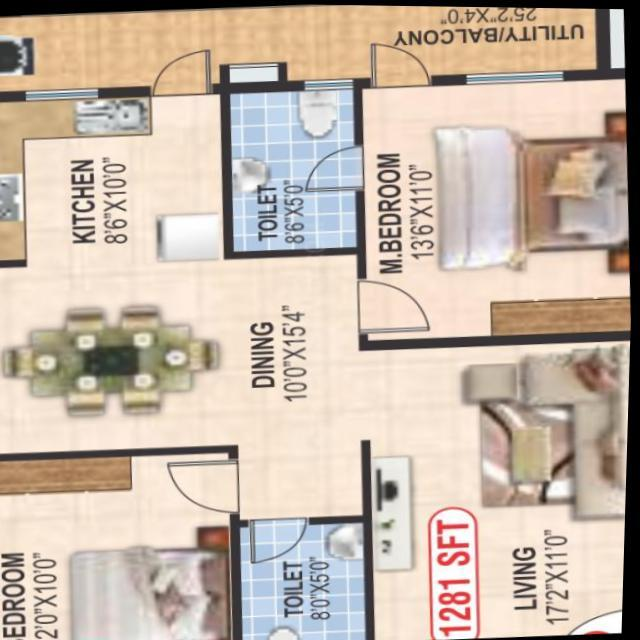Bedroom: (0, 445, 245, 640)
Bedroom with Toilet: (227, 69, 633, 343)
Dining: (0, 295, 227, 425)
Enterance-Foyer: (543, 603, 626, 634)
Kitchen: (0, 85, 232, 269)
Living: (360, 332, 632, 640)
Toilet: (219, 79, 363, 255), (239, 516, 373, 640)
Utility: (0, 4, 603, 102)
